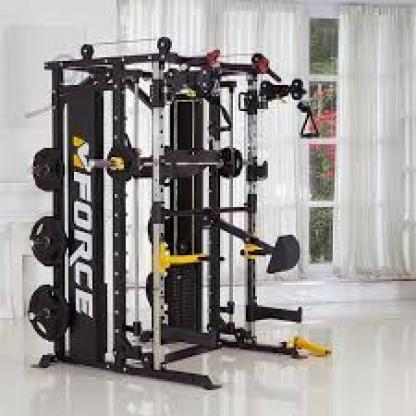smith machine: (30, 36, 334, 391)
